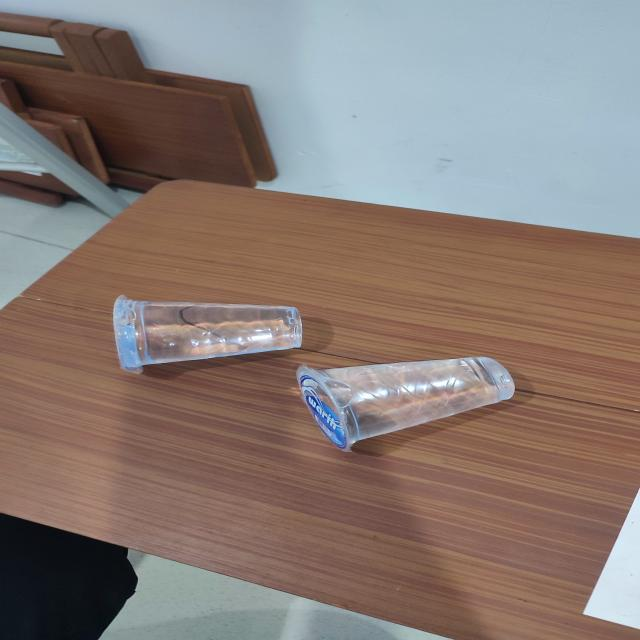air gelas: (288, 352, 521, 455), (95, 287, 323, 372)
